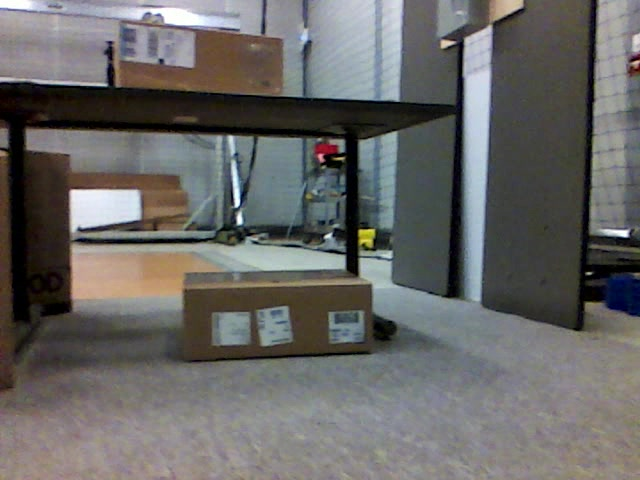box: (184, 276, 373, 356), (115, 30, 285, 93)
